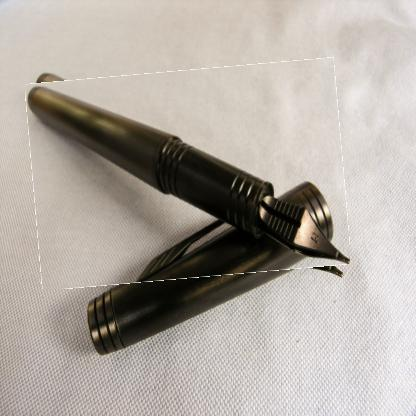Pen: (30, 64, 348, 284)
